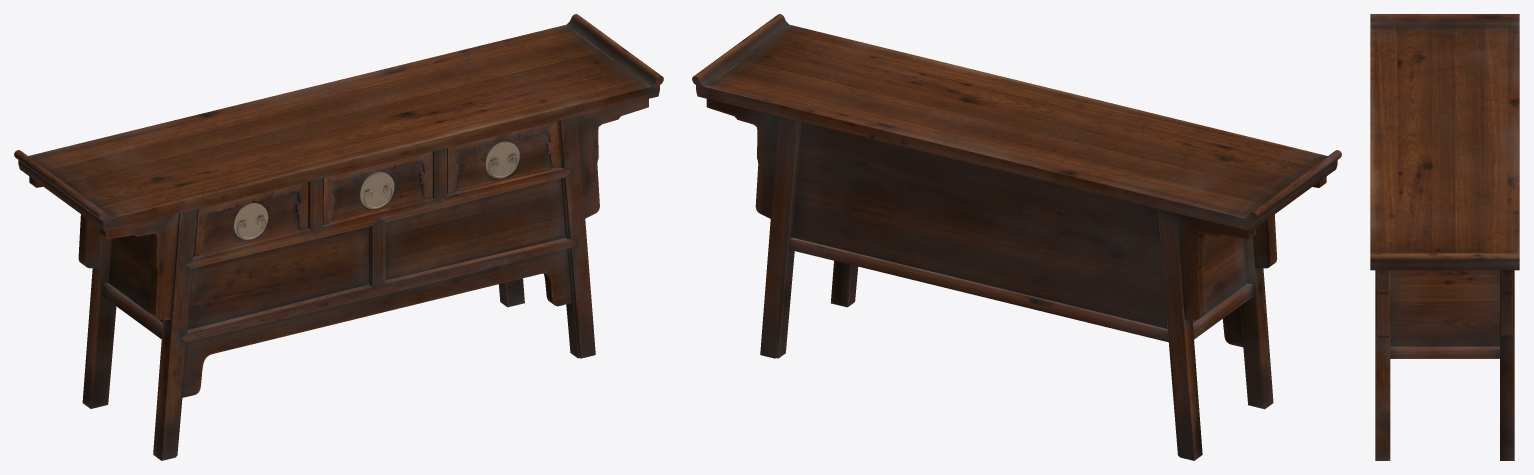
The model's file is ph-chinese_commode.glb.
3 renders of one model, left to right at view 1: azimuth 30°, elevation 25°; view 2: azimuth 150°, elevation 25°; view 3: azimuth 270°, elevation 25°, orthographic. The views are drawn at different scales.
Visible parts, largest first — view 1: chinese_commode; view 2: chinese_commode; view 3: chinese_commode.
Part boxes in pixels (box(x1,y1,x2,y2)): chinese_commode: box(14, 14, 663, 460); chinese_commode: box(692, 14, 1341, 460); chinese_commode: box(1370, 14, 1519, 460).
Bounding box in the file's own units: 4.49 × 2.02 × 1.17.
Materials: 1 (1 with a texture image).
